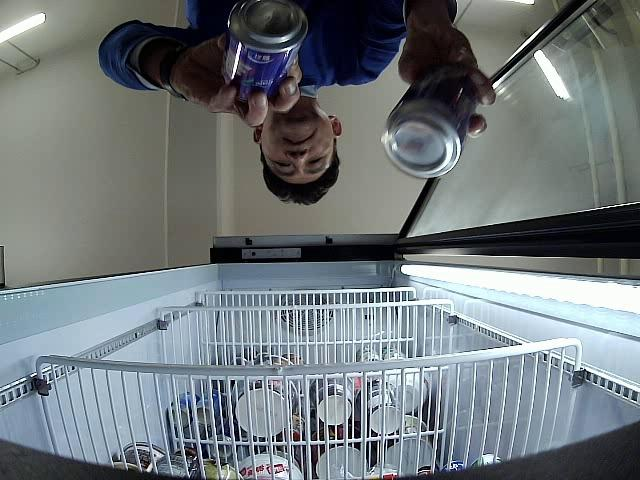00_hand: (172, 36, 302, 127), (398, 20, 495, 139)
14_welchsGrape: (381, 60, 478, 179), (222, 0, 308, 104)
